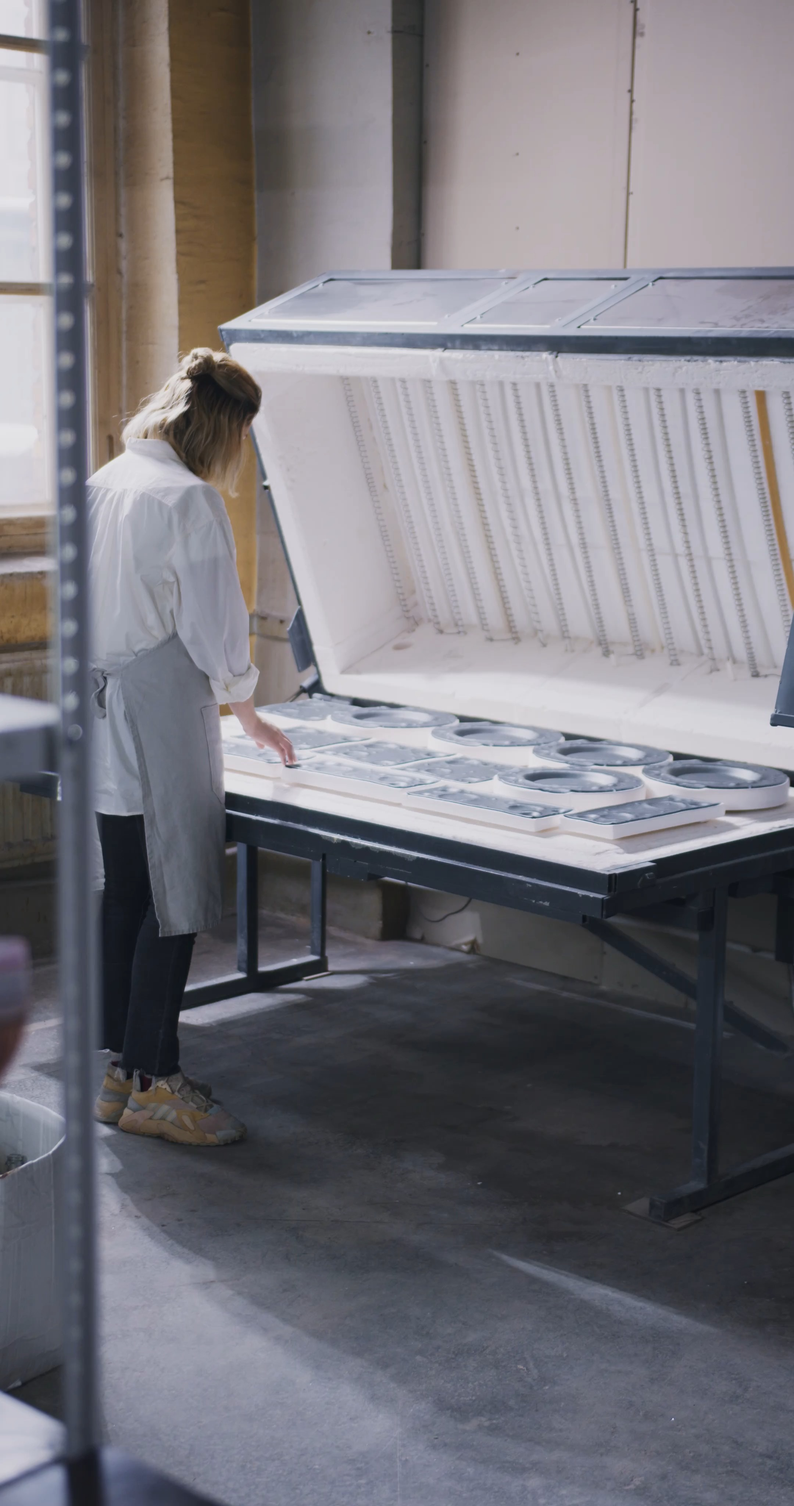No-gloves: (221, 684, 316, 785)
